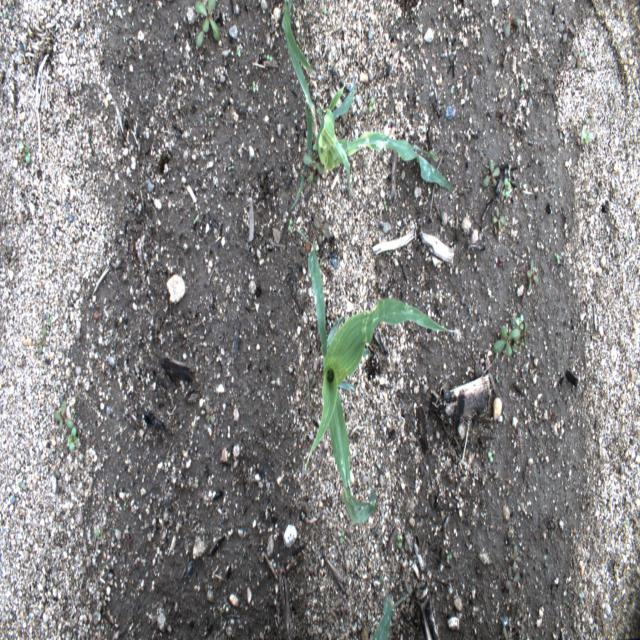crop: (304, 250, 459, 524), (288, 71, 455, 212), (282, 0, 320, 147), (372, 573, 409, 639)
weed: (194, 0, 222, 43), (296, 228, 324, 270), (492, 324, 520, 359), (510, 316, 531, 355), (52, 398, 74, 432), (302, 153, 325, 184), (482, 159, 502, 189), (312, 217, 331, 246), (503, 9, 522, 38), (504, 566, 522, 596), (594, 610, 611, 637), (526, 260, 540, 292), (491, 206, 506, 232), (557, 16, 576, 36), (36, 325, 47, 356), (66, 425, 79, 451), (510, 543, 520, 575), (196, 23, 208, 48), (18, 141, 31, 164), (571, 48, 585, 69), (303, 167, 317, 187), (580, 126, 594, 146), (204, 401, 215, 424), (562, 22, 573, 44), (501, 103, 512, 125), (306, 376, 317, 398), (584, 107, 596, 127), (514, 424, 524, 447), (212, 416, 222, 437), (501, 177, 510, 200), (586, 60, 596, 78), (516, 334, 525, 352), (515, 313, 524, 330), (518, 262, 528, 277), (516, 603, 526, 617), (339, 528, 346, 547), (93, 527, 103, 540), (216, 608, 223, 626), (368, 95, 375, 112), (287, 217, 294, 233), (486, 450, 494, 464), (395, 534, 403, 548), (192, 213, 200, 226), (46, 312, 52, 328), (18, 480, 25, 491), (236, 44, 241, 59), (614, 39, 620, 51), (555, 252, 560, 266), (383, 199, 388, 213), (494, 374, 500, 384), (266, 54, 273, 62), (300, 31, 304, 45), (630, 594, 636, 603), (446, 552, 452, 561), (502, 410, 507, 420), (252, 81, 256, 93), (228, 164, 235, 170), (320, 8, 327, 14), (534, 412, 538, 422), (484, 163, 489, 170), (461, 110, 463, 122), (386, 250, 390, 256), (366, 159, 368, 168)
